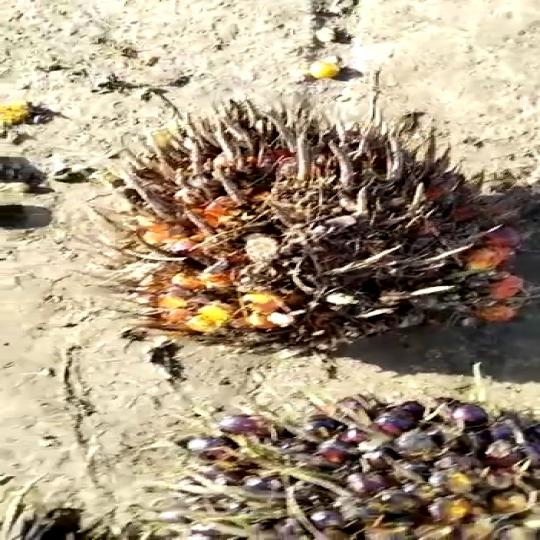terlalu masak: (87, 97, 540, 365)
